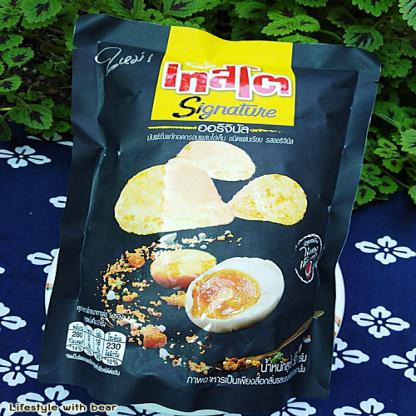potatochip: (41, 22, 378, 409)
